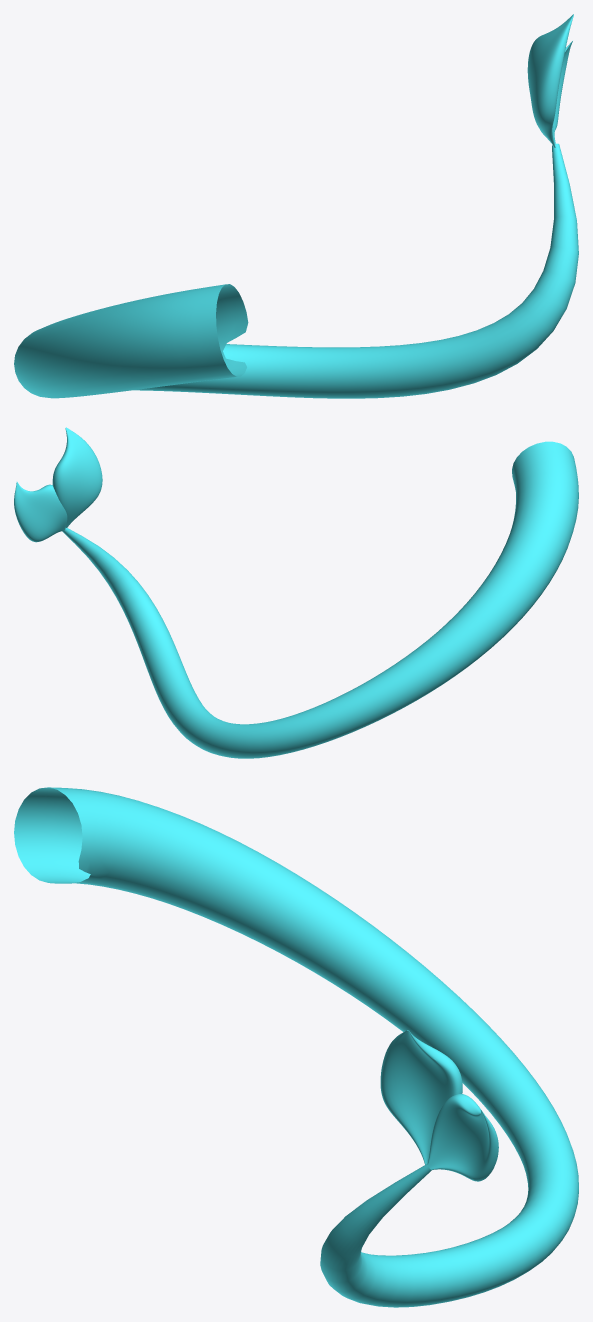
The picture shows the model from 3 angles, top to bottom: view 1: azimuth 30°, elevation 25°; view 2: azimuth 150°, elevation 25°; view 3: azimuth 270°, elevation 25°; orthographic projection. The views are drawn at different scales.
Parts seen in each view (by area): view 1: tail_001, tail_tip; view 2: tail_001, tail_tip; view 3: tail_001, tail_tip.
Part boxes in pixels (x1=…): tail_001: x1=14, y1=143, x2=578, y2=398; tail_tip: x1=527, y1=14, x2=573, y2=147; tail_001: x1=62, y1=441, x2=578, y2=758; tail_tip: x1=14, y1=427, x2=102, y2=542; tail_001: x1=14, y1=787, x2=578, y2=1307; tail_tip: x1=380, y1=1030, x2=498, y2=1181.
Size of the model in its own units: 145 by 108 by 76.78.
